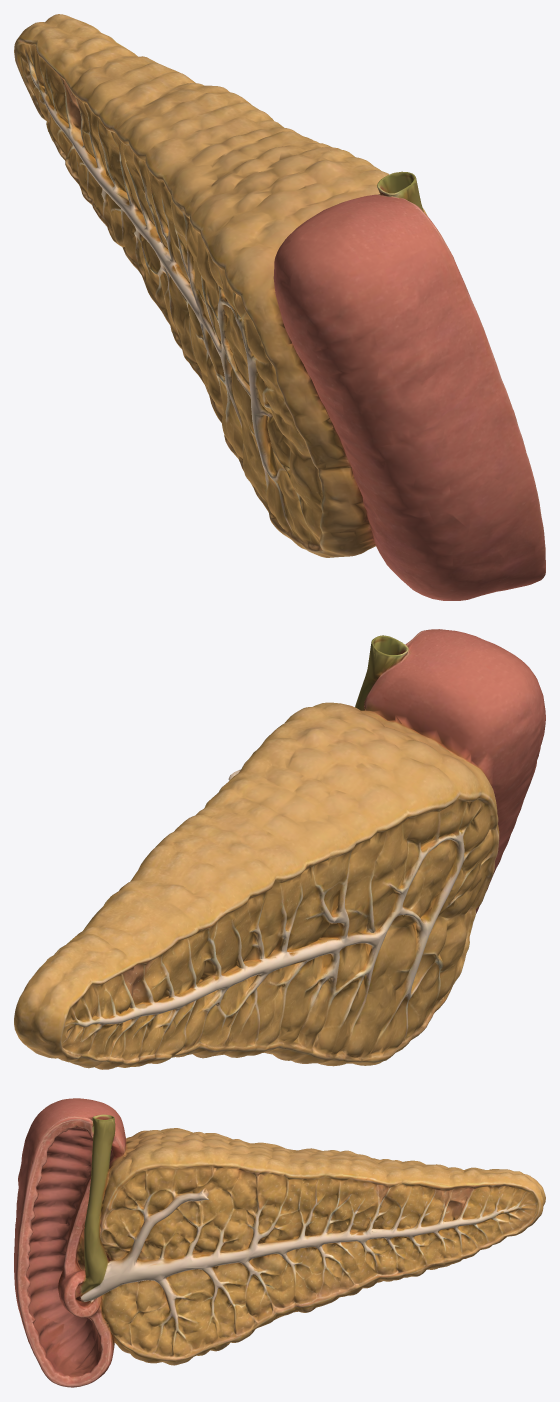
The model's file is pancreas-sectioned.glb.
3 views of the same model, one above another, from view 1: azimuth 30°, elevation 25°; view 2: azimuth 150°, elevation 25°; view 3: azimuth 270°, elevation 25° (orthographic). The views are drawn at different scales.
Parts seen in each view (by area): view 1: tripo_node_42ad047f-7076-4e3d-a6e9-e54df1e56e05; view 2: tripo_node_42ad047f-7076-4e3d-a6e9-e54df1e56e05; view 3: tripo_node_42ad047f-7076-4e3d-a6e9-e54df1e56e05.
Part boxes in pixels (x1=…): tripo_node_42ad047f-7076-4e3d-a6e9-e54df1e56e05: x1=14, y1=14, x2=545, y2=600; tripo_node_42ad047f-7076-4e3d-a6e9-e54df1e56e05: x1=14, y1=629, x2=545, y2=1069; tripo_node_42ad047f-7076-4e3d-a6e9-e54df1e56e05: x1=14, y1=1098, x2=545, y2=1387.
Bounding box in the file's own units: 0.3042 × 0.508 × 0.9999.
Materials: 1 (1 with a texture image).
